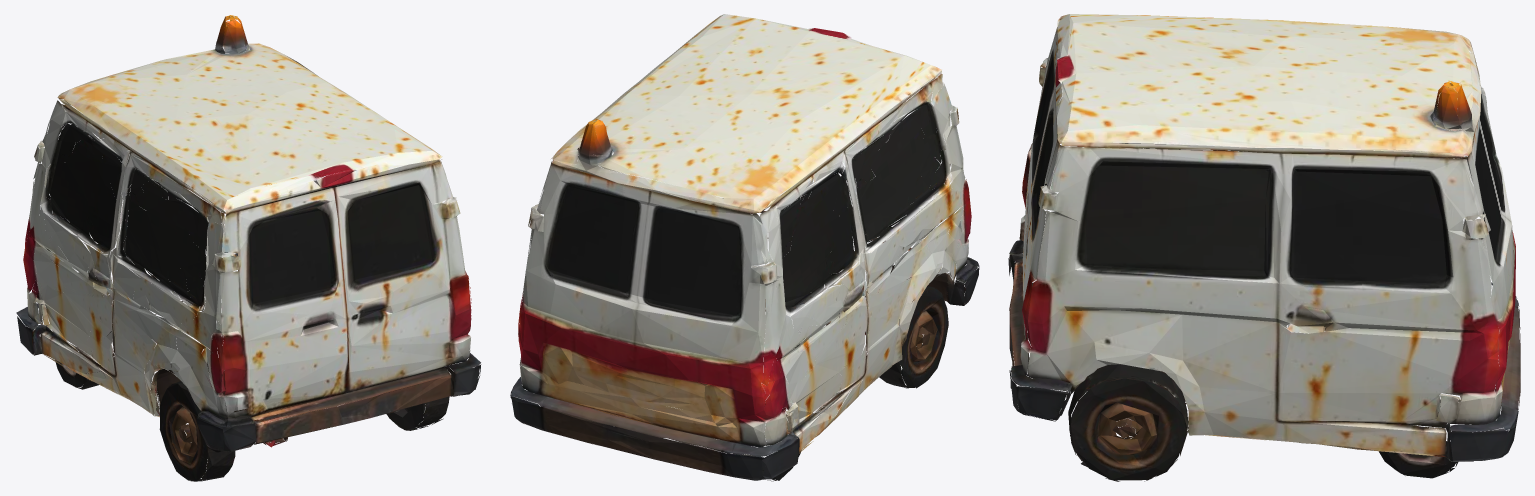
File: escape-van.glb
3 renders of one model, left to right at view 1: azimuth 30°, elevation 25°; view 2: azimuth 150°, elevation 25°; view 3: azimuth 270°, elevation 25°, orthographic. The views are drawn at different scales.
Visible parts, largest first — view 1: prop; view 2: prop; view 3: prop.
Boxes of the visible parts, x1=… form: prop: x1=16, y1=15, x2=481, y2=481; prop: x1=510, y1=14, x2=979, y2=481; prop: x1=1008, y1=14, x2=1520, y2=481.
Bounding box in the file's own units: 0.6572 × 0.744 × 0.92.
Materials: 1 (1 with a texture image).
